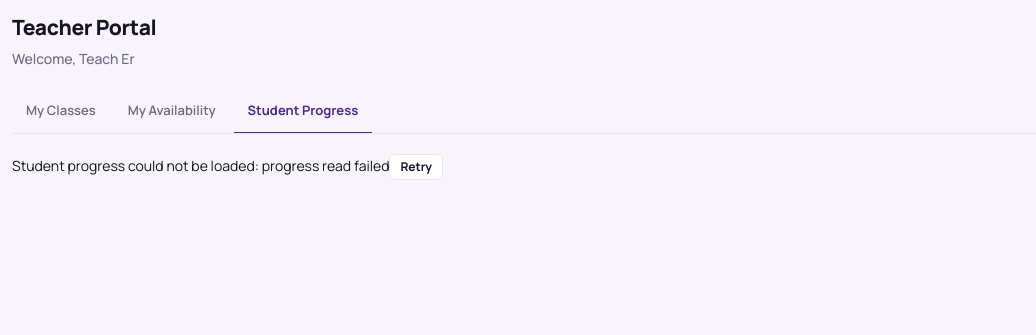
Teacher portal error states › a failed progress read shows an error and Retry, not "No students"
The image size is (1036, 335).
Expected: the text "Student progress could not be loaded: progress read failed" is shown, [12,156,389,175]
Expected: the text "No students" is not shown
Click the button "Retry" at coordinates (416, 167), box [389,154,443,180]
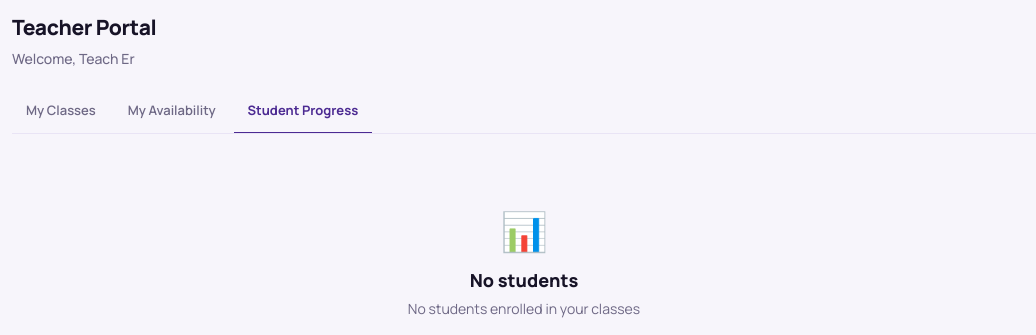
Expected: the text "No students" is shown, [470,268,578,292]
